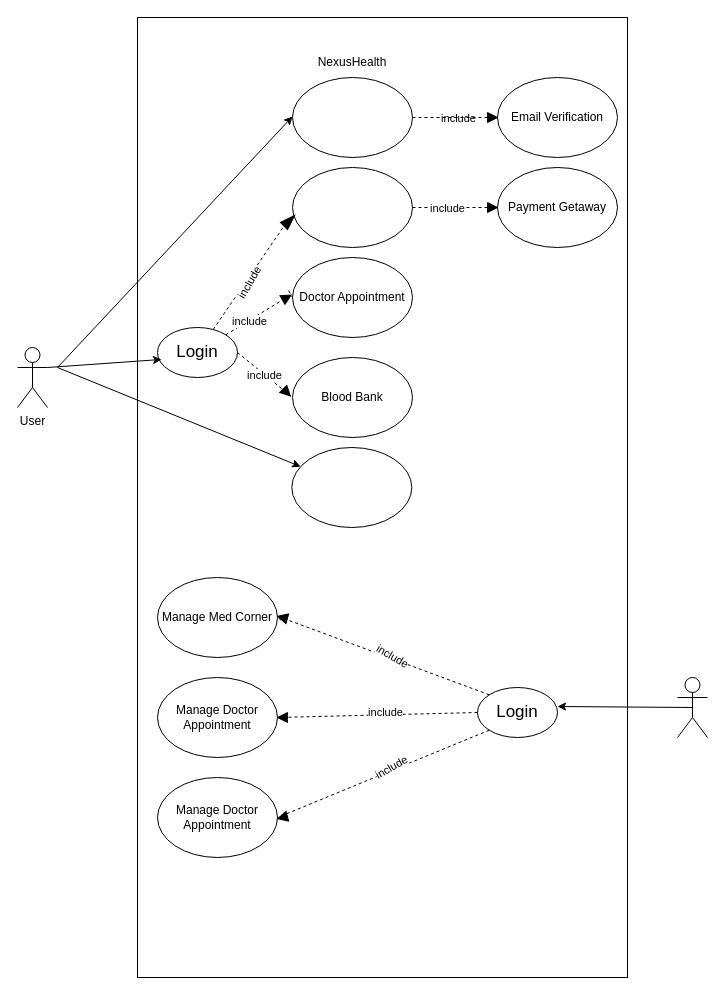
Image size: 727x995. Some labels were removed from this diagram. Each missing label, with the box of its shape:
Admin: (676, 676, 708, 738)
Med Corner: (292, 166, 412, 248)
Registration: (292, 76, 412, 158)
Self-Diagnosis: (291, 446, 412, 528)
